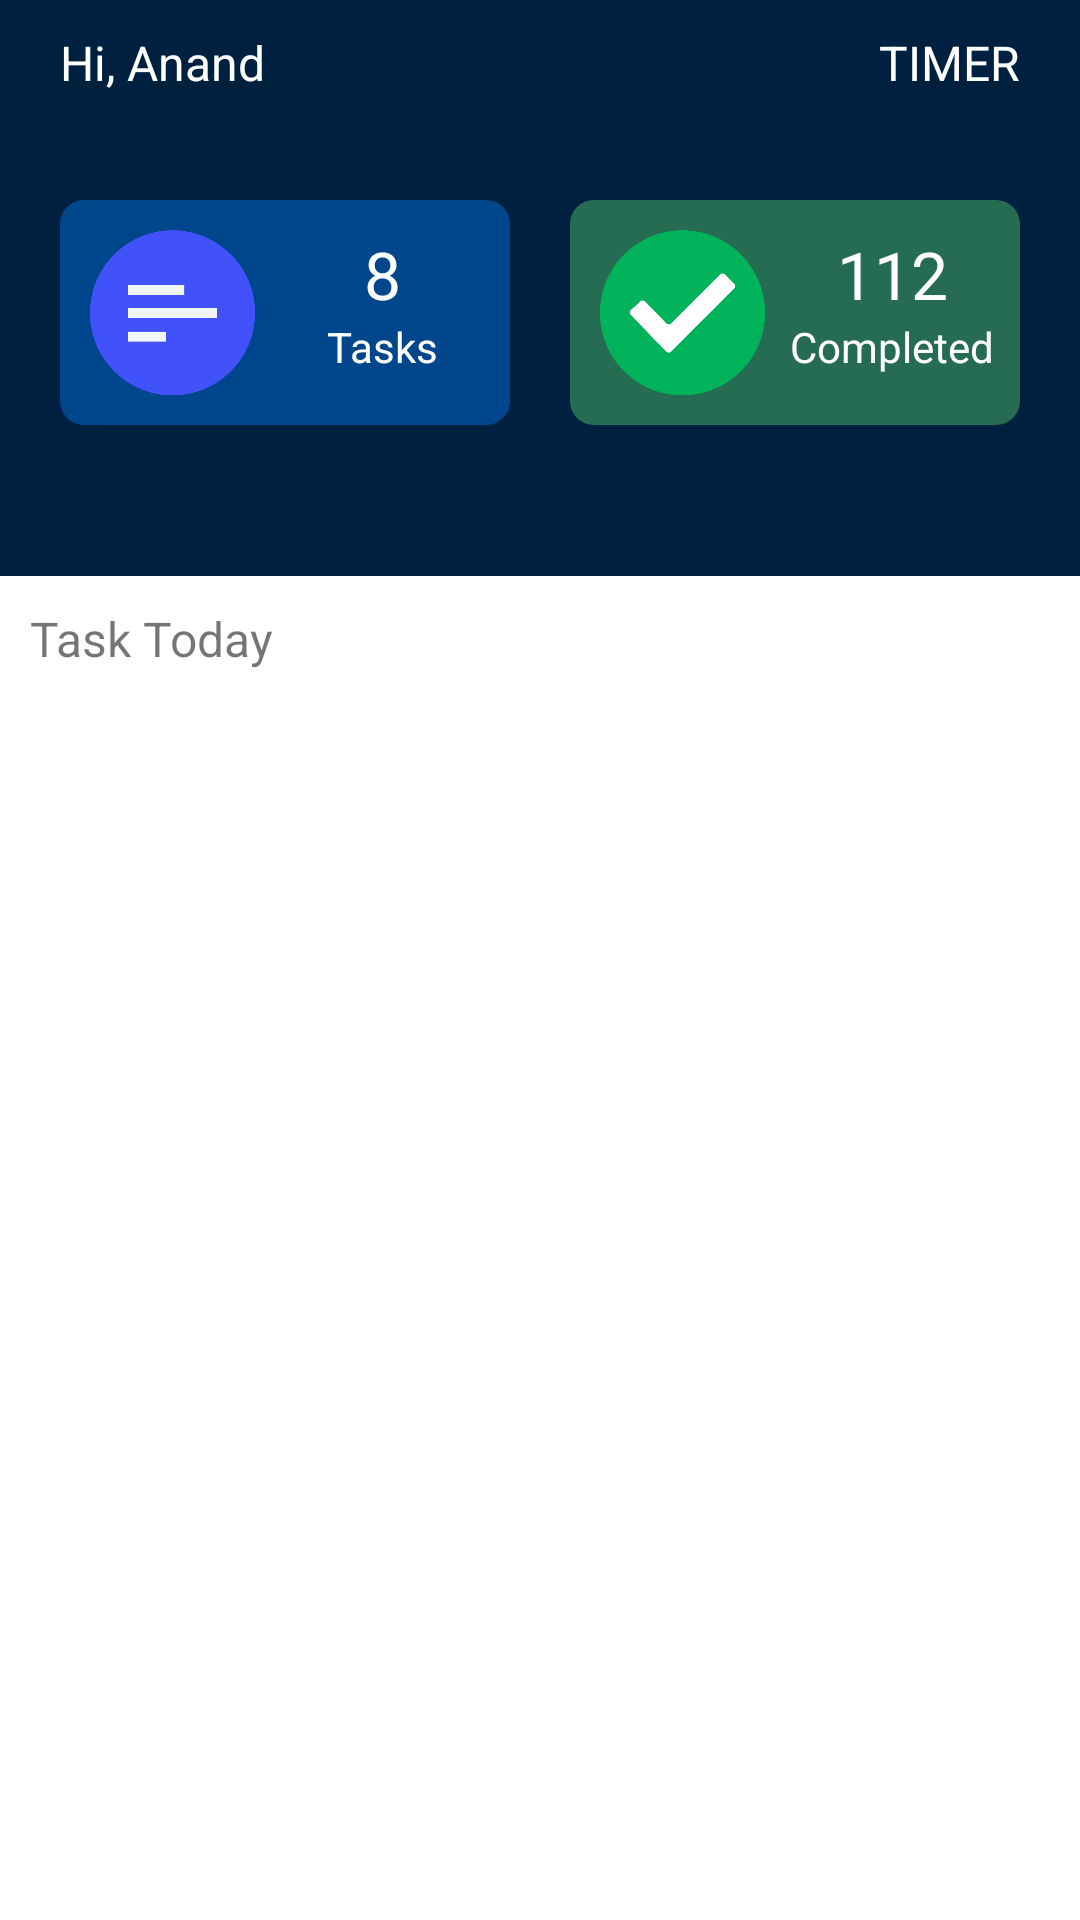

Point at icon controls on the screen. Image size 1080px×1920px, points as point (x, y).
dashboard task circle: point (172, 312), point (682, 312)
